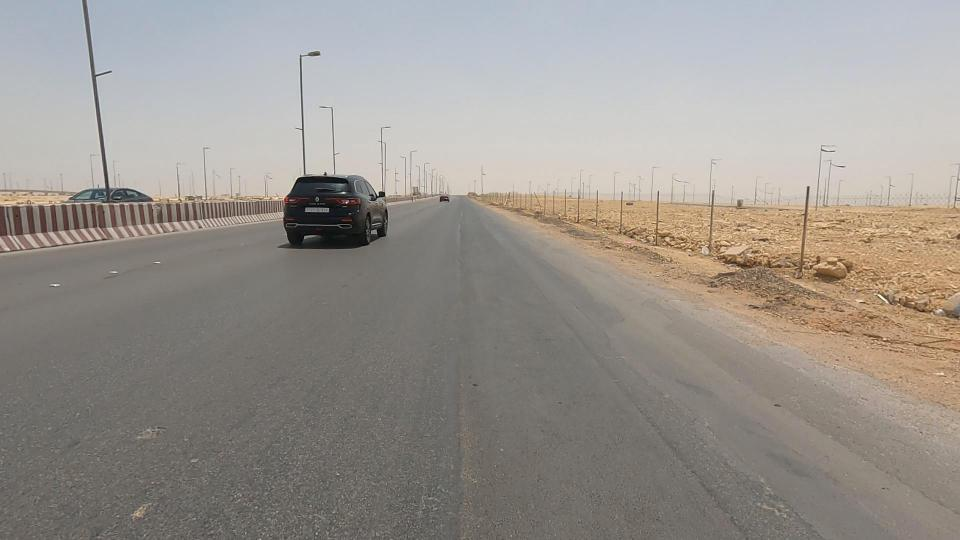CONSTRUCTION_ROAD: (6, 176, 228, 256), (144, 177, 290, 239)
